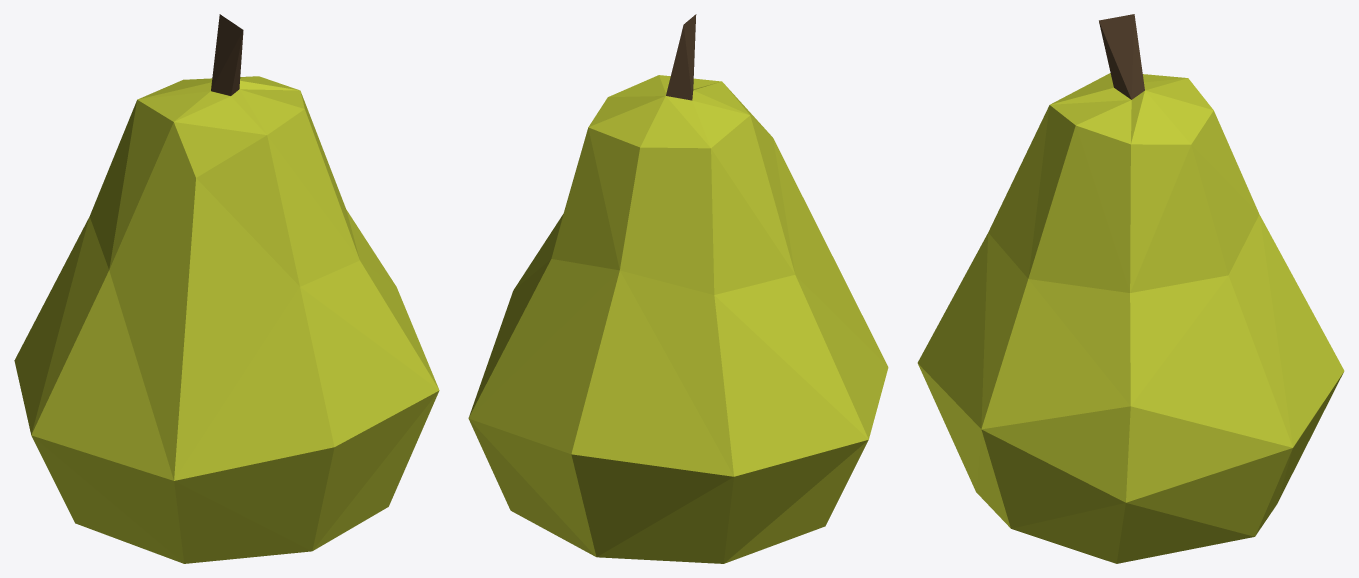
Rendered from SFM_FVC_Pear.fbx.
3 renders of one model, left to right at view 1: azimuth 30°, elevation 25°; view 2: azimuth 150°, elevation 25°; view 3: azimuth 270°, elevation 25°, orthographic.
Parts seen in each view (by area): view 1: SFM_FVC_Pear; view 2: SFM_FVC_Pear; view 3: SFM_FVC_Pear.
Boxes of the visible parts, bbox=[...] form: SFM_FVC_Pear: bbox=[14, 14, 439, 563]; SFM_FVC_Pear: bbox=[468, 14, 888, 563]; SFM_FVC_Pear: bbox=[917, 14, 1344, 563].
Bounding box in the file's own units: 11.16 × 14.03 × 11.13.
